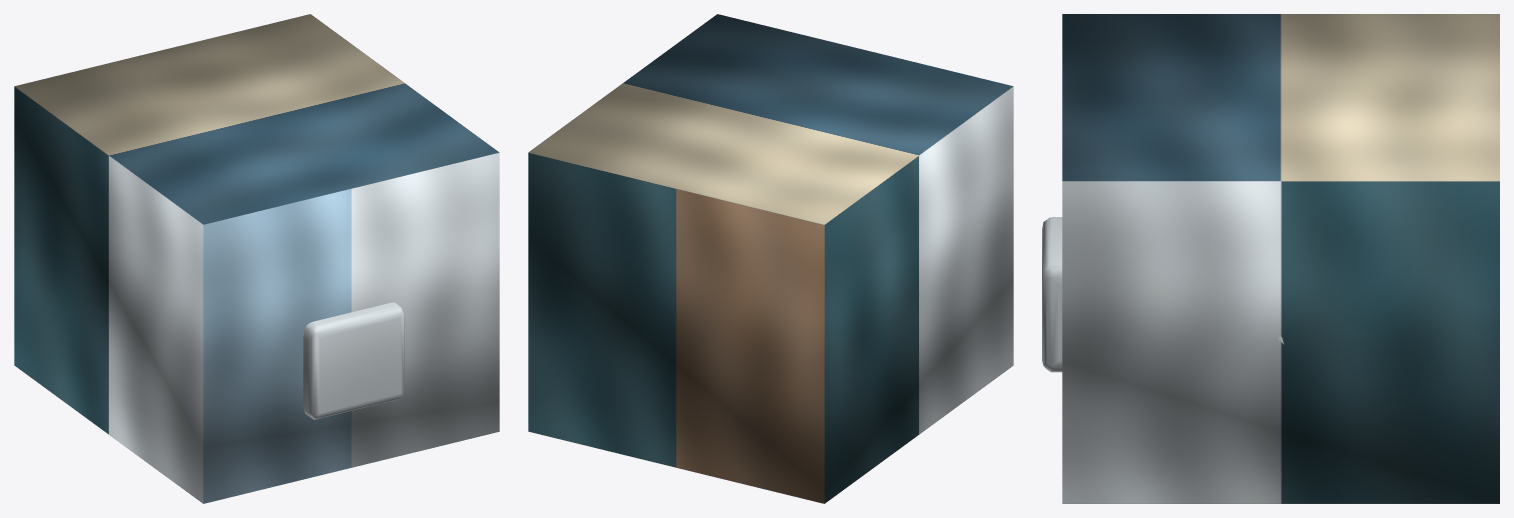
The model's file is igloo.glb.
3 renders of one model, left to right at view 1: azimuth 30°, elevation 25°; view 2: azimuth 150°, elevation 25°; view 3: azimuth 270°, elevation 25°, orthographic. The views are drawn at different scales.
Visible parts, largest first — view 1: col, lod0; view 2: col; view 3: col, lod0.
Part boxes in pixels (<box>): col: <box>14,14,499,503</box>; lod0: <box>303,302,404,419</box>; col: <box>528,14,1013,503</box>; col: <box>1062,14,1499,503</box>; lod0: <box>1042,217,1283,372</box>.
Size of what is drawn, in the model's own units: 3.97 by 3.58 by 4.6.
1 material, 1 textured.
